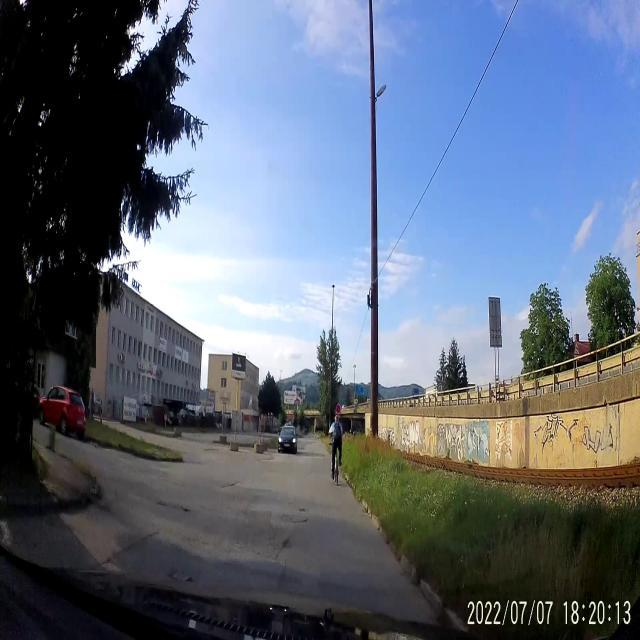Manhole: (282, 508, 308, 528)
Pothole: (154, 492, 192, 524), (168, 554, 196, 592), (219, 478, 242, 492)
